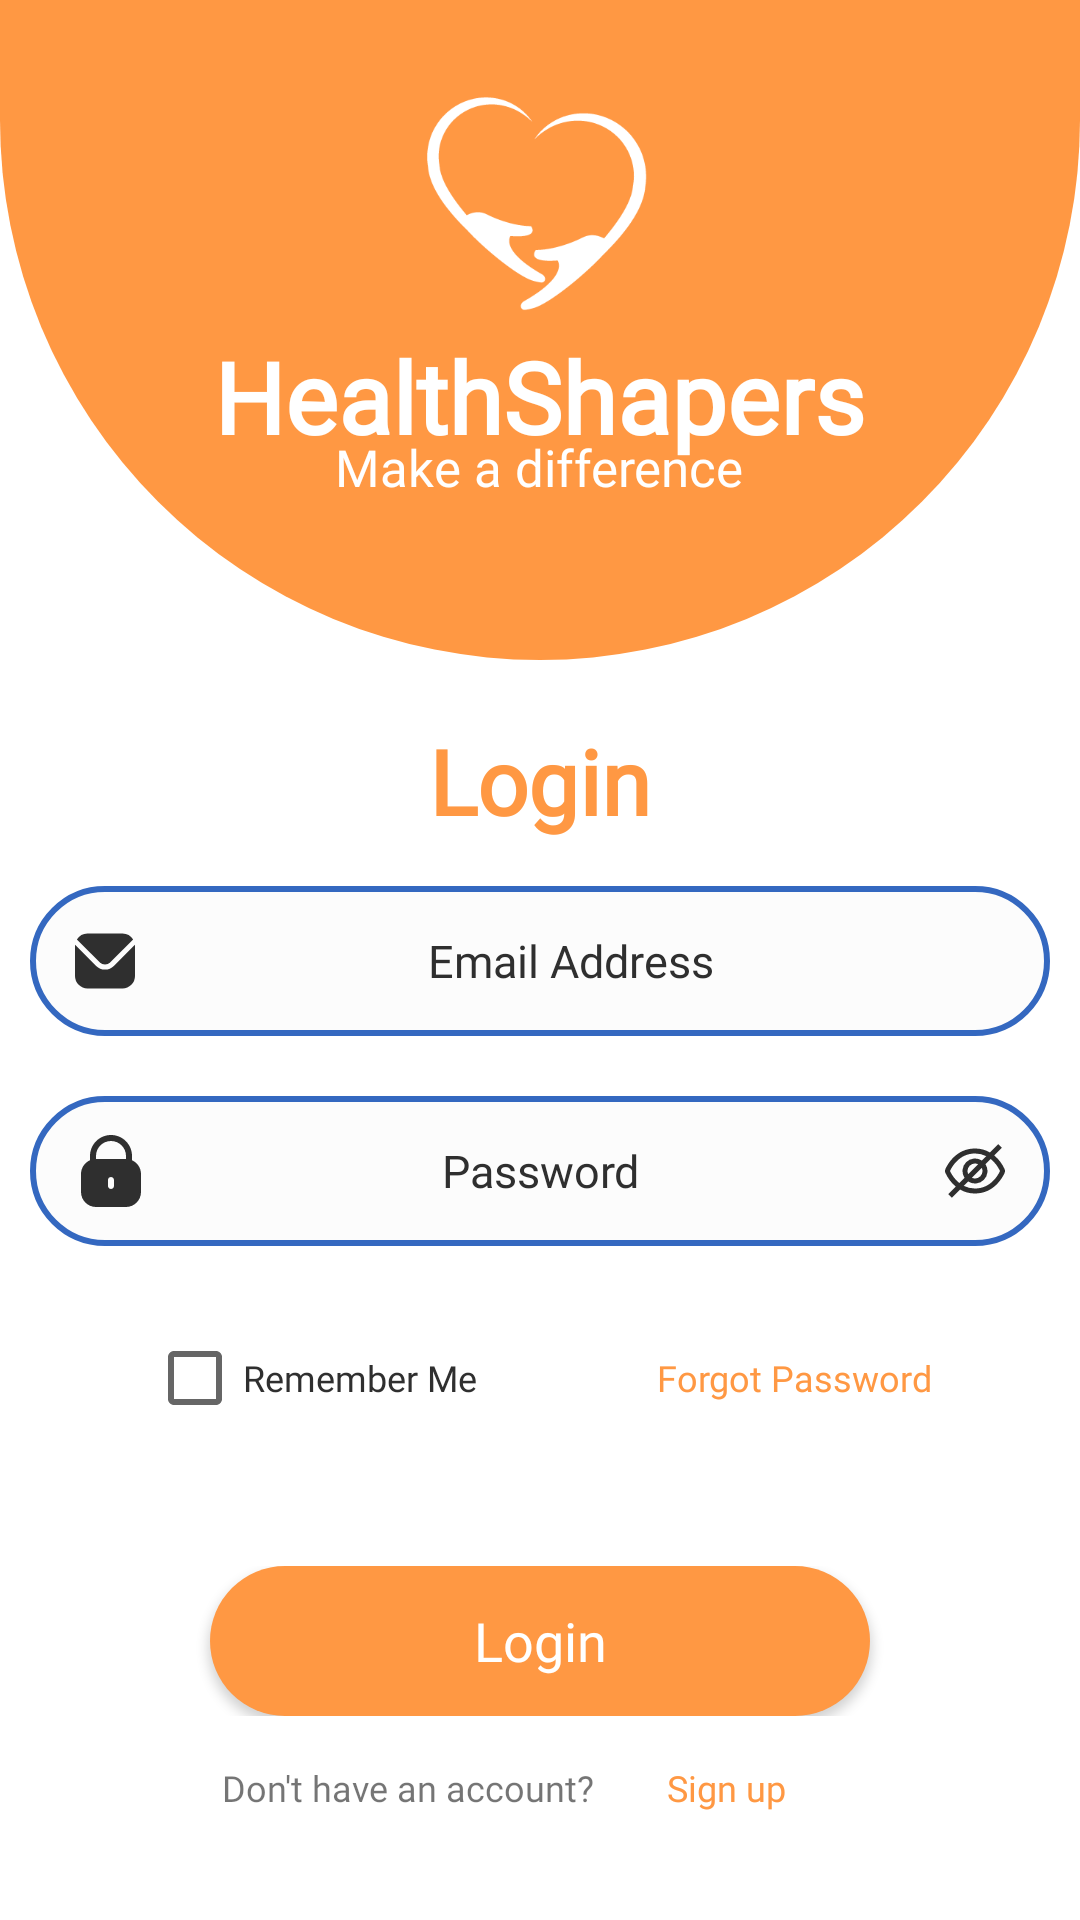

Where to tap for icons on this 1080 x 1920 app screen, as point (x, y):
hide: point (975, 1171)
lock: point (111, 1171)
